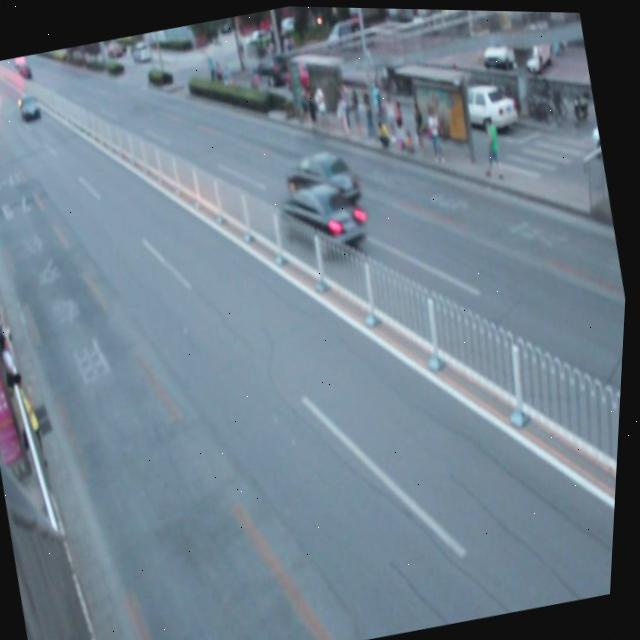car: (274, 171, 374, 269), (283, 141, 365, 213)
